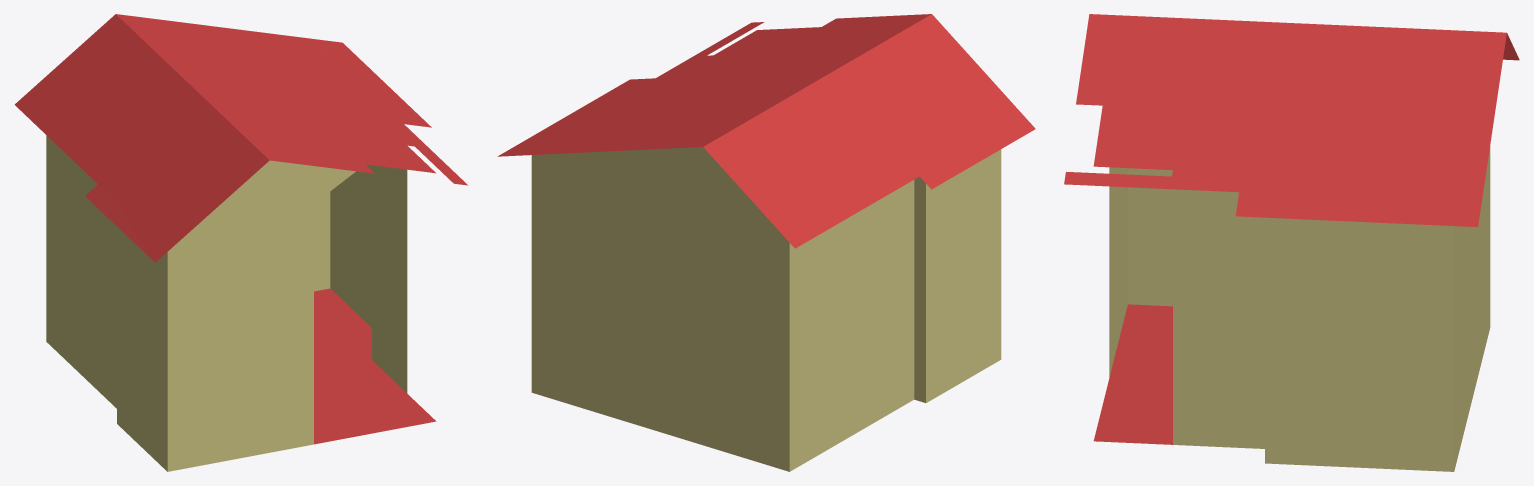
3 renders of one model, left to right at view 1: azimuth 30°, elevation 25°; view 2: azimuth 150°, elevation 25°; view 3: azimuth 270°, elevation 25°, orthographic. The views are drawn at different scales.
Size of the model in its own units: 12.73 by 12.74 by 10.37.
